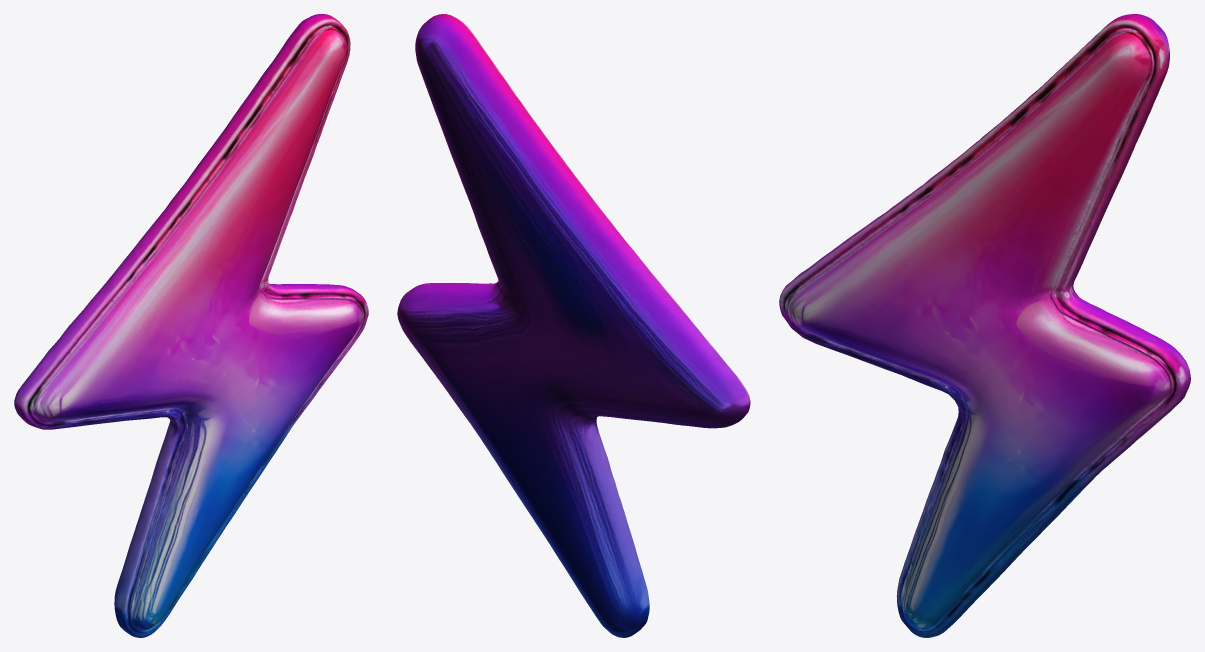
Rendered from flash__companion__r1__p1__solo-attach__multi-4.glb.
The picture shows the model from 3 angles, left to right: view 1: azimuth 30°, elevation 25°; view 2: azimuth 150°, elevation 25°; view 3: azimuth 330°, elevation 25°; orthographic projection. The views are drawn at different scales.
Visible parts, largest first — view 1: model; view 2: model; view 3: model.
Boxes of the visible parts, box(x1,y1,x2,y2) form: model: box(14, 14, 368, 637); model: box(397, 14, 750, 637); model: box(779, 14, 1190, 637).
Size of the model in its own units: 1.16 by 1.83 by 0.2006.
Materials: 1 (1 with a texture image).
